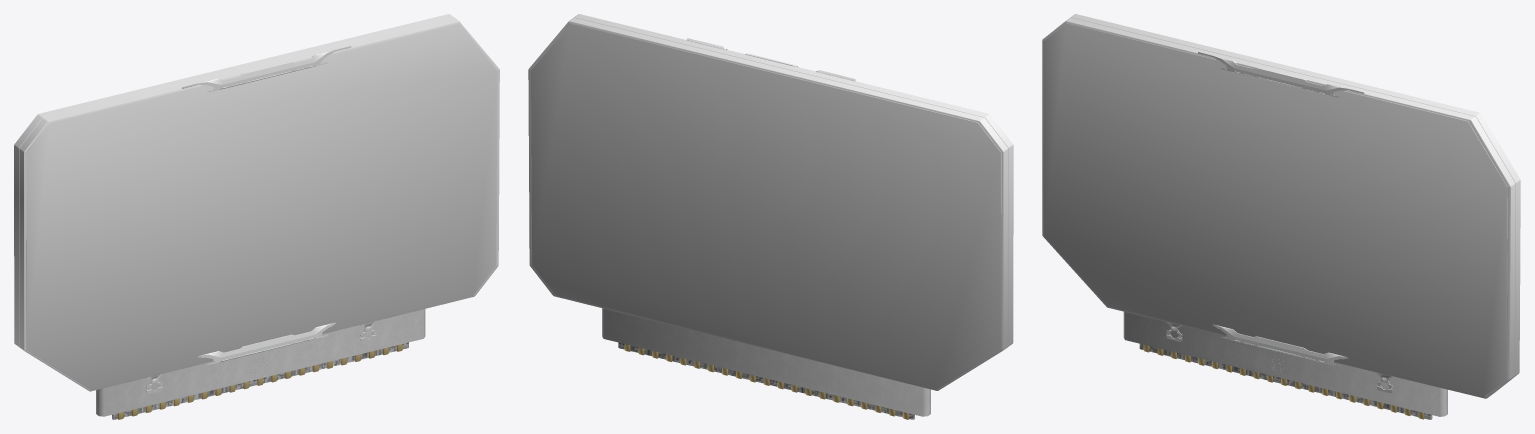
File: cartridge szary.gltf
3 views of the same model, side by side, from view 1: azimuth 30°, elevation 25°; view 2: azimuth 150°, elevation 25°; view 3: azimuth 330°, elevation 25° (orthographic).
Visible parts, largest first — view 1: cartridge low; view 2: cartridge low; view 3: cartridge low.
Part boxes in pixels (box(x1,y1,x2,y2)): cartridge low: box(14, 14, 499, 419); cartridge low: box(528, 14, 1013, 419); cartridge low: box(1042, 14, 1520, 419).
Bounding box in the file's own units: 1.97 × 1.27 × 0.0866.
5 materials, 4 textured.
